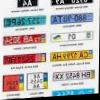License_Plate: (3, 0, 93, 100)
